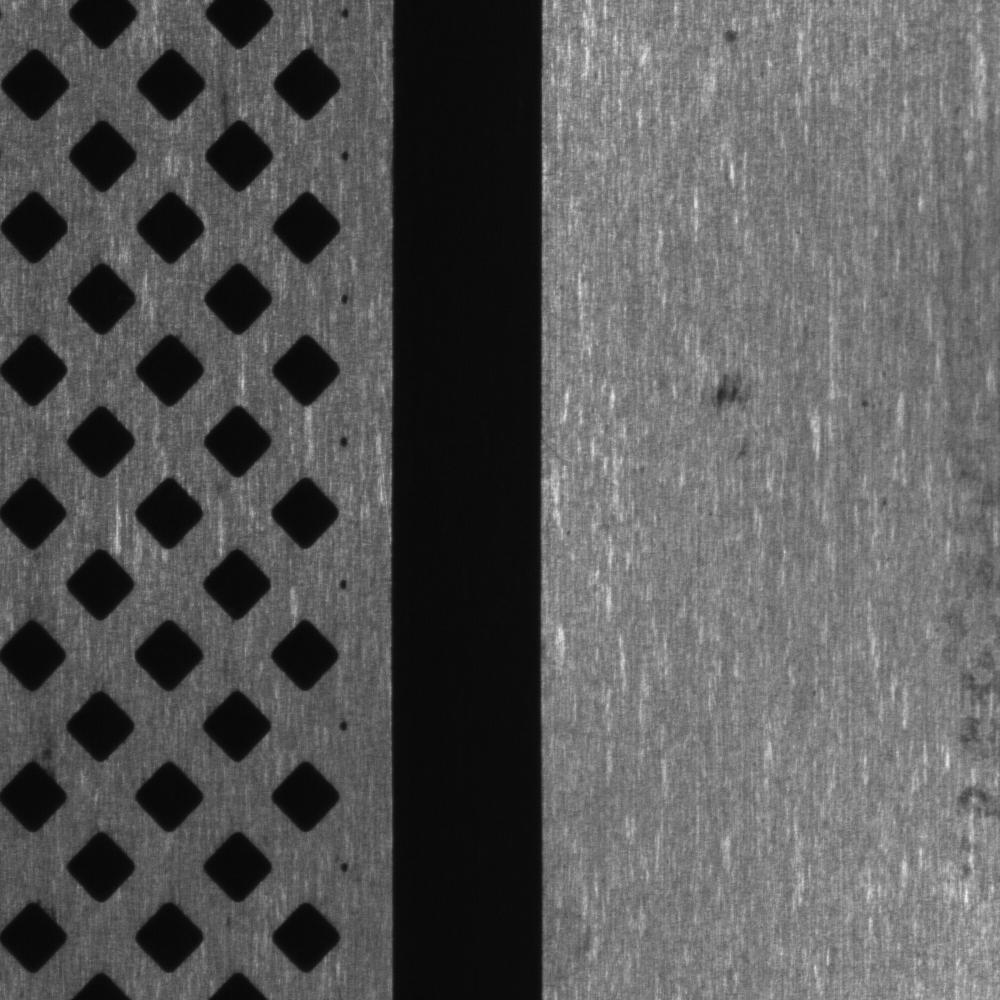Discolor: (910, 412, 998, 878)
Etching: (699, 368, 760, 410)
Pinhole: (709, 13, 755, 62), (849, 387, 884, 418)
